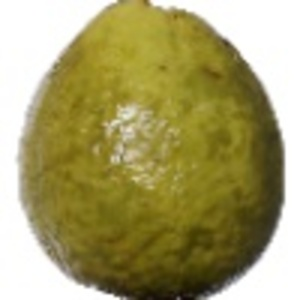goiaba: (14, 2, 292, 298)
